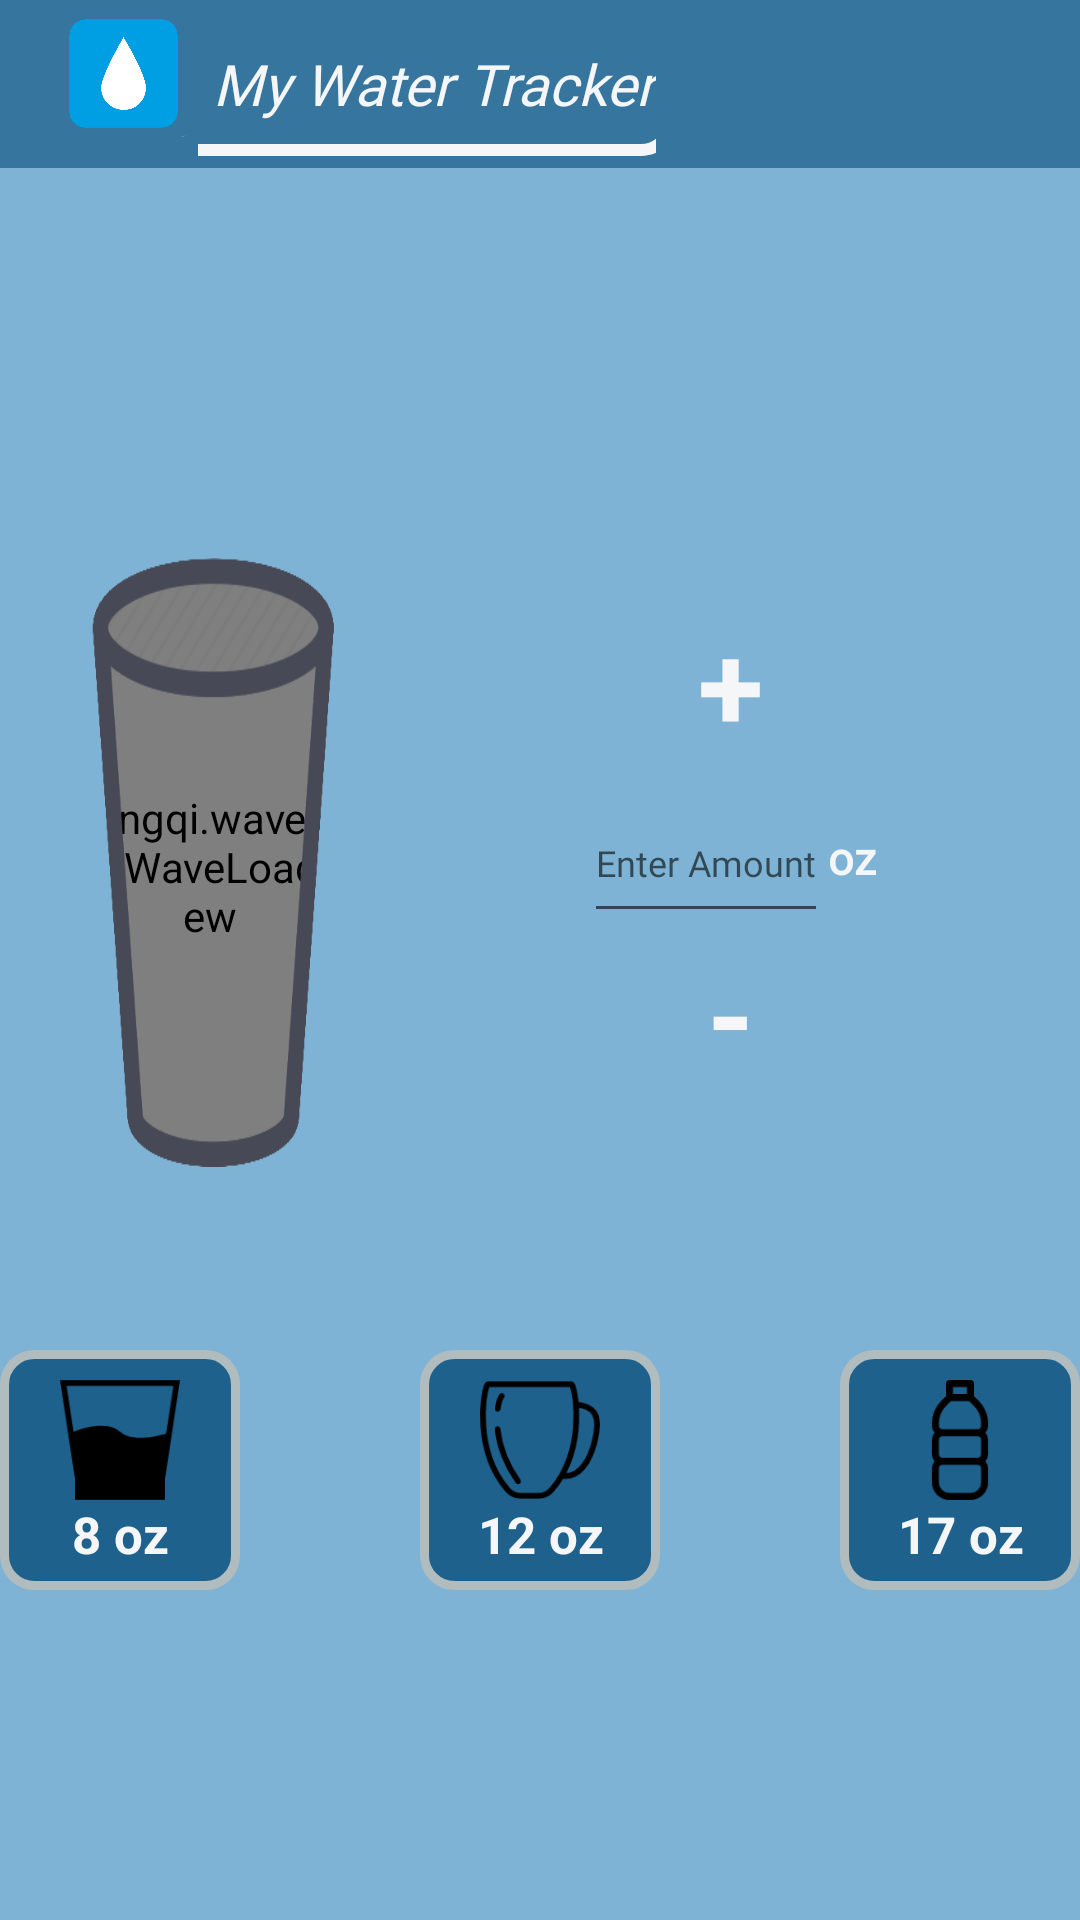

Icons on this 1080 × 1920 Android screen, each with the point to tap as (x=x, y=y):
bottle: (x=960, y=1440)
mug: (x=540, y=1440)
